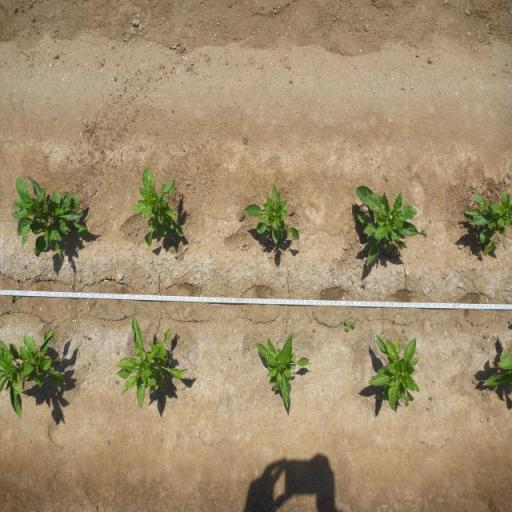plant: (10, 173, 91, 264), (118, 312, 188, 411), (0, 327, 66, 420), (352, 182, 420, 270), (129, 165, 187, 249), (253, 332, 311, 410), (366, 334, 422, 412), (242, 180, 302, 250), (461, 185, 512, 258), (479, 347, 512, 389)
weed: (344, 317, 356, 332), (419, 227, 427, 237), (360, 281, 368, 288), (482, 334, 490, 340), (429, 395, 434, 402), (4, 308, 9, 314), (8, 294, 13, 300), (312, 327, 316, 333), (402, 328, 406, 333), (380, 331, 385, 335), (392, 319, 396, 324), (114, 380, 119, 384), (16, 295, 20, 299), (472, 320, 474, 326)
